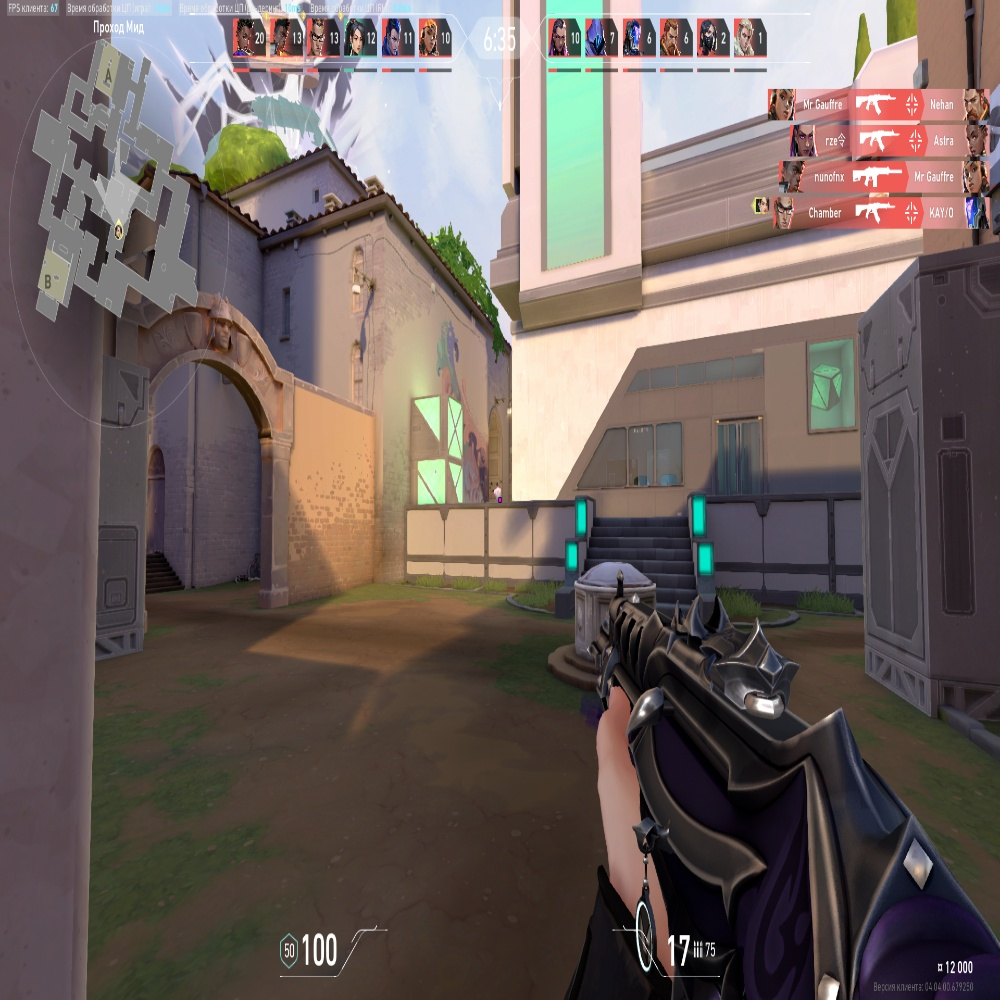body: (495, 488, 501, 503)
head: (495, 482, 499, 488)
